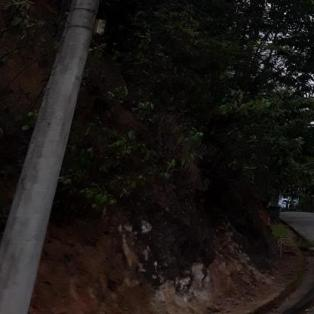Poste: (1, 0, 156, 314)
